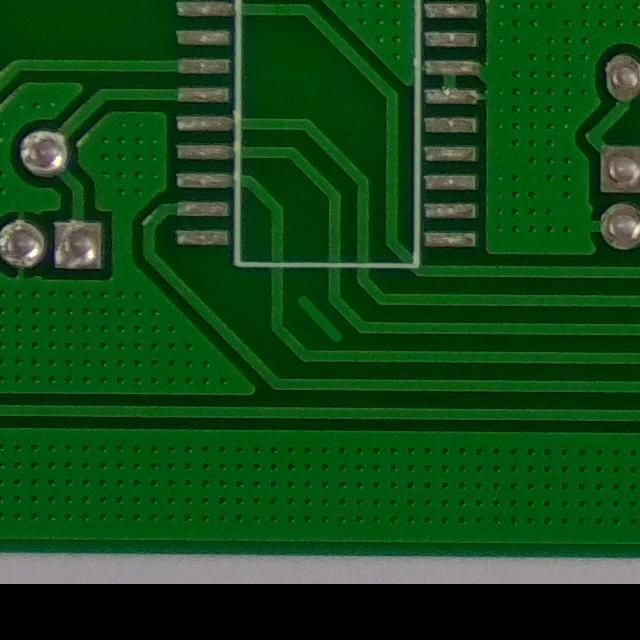spurious_copper: (287, 284, 354, 357)
